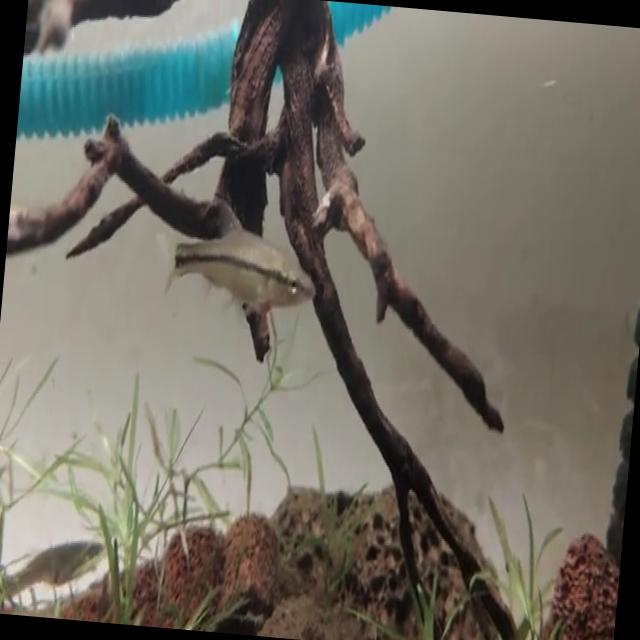Cakil Baligi: (151, 199, 326, 327)
